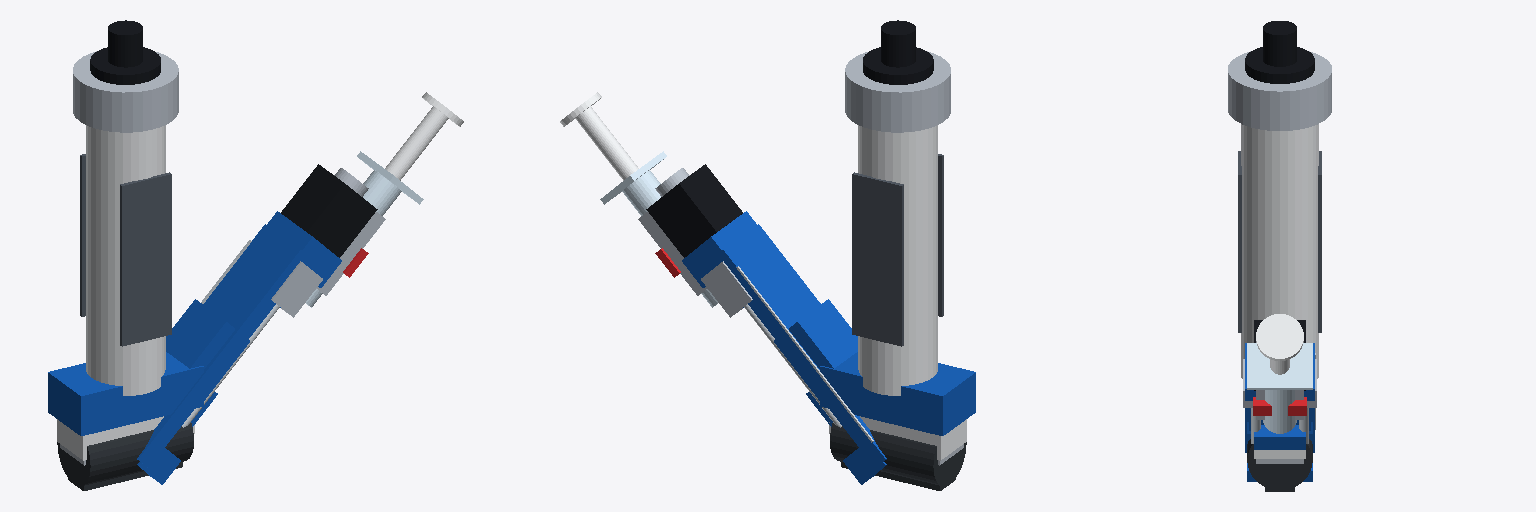
robot.urdf — robotic_probe_with_needle_guide:
<?xml version="1.0"?>
<robot name="robotic_probe_with_needle_guide">

  <!-- ==================================================================== -->
  <!-- MATERIALS DEFINITION                                                 -->
  <!-- ==================================================================== -->
  <material name="medical_white">
    <color rgba="0.94 0.95 0.96 1.0"/>
  </material>
  <material name="acoustic_lens_graphite">
    <color rgba="0.22 0.24 0.26 1.0"/>
  </material>
  <material name="silicone_grip_grey">
    <color rgba="0.35 0.38 0.42 1.0"/>
  </material>
  <material name="surgical_anodized_blue">
    <color rgba="0.12 0.42 0.78 1.0"/>
  </material>
  <material name="clamp_accent_red">
    <color rgba="0.88 0.20 0.22 1.0"/>
  </material>
  <material name="stepper_black">
    <color rgba="0.12 0.13 0.15 1.0"/>
  </material>
  <material name="polished_chrome_steel">
    <color rgba="0.82 0.85 0.88 1.0"/>
  </material>
  <material name="leadscrew_steel">
    <color rgba="0.70 0.73 0.76 1.0"/>
  </material>
  <material name="brass_bushing">
    <color rgba="0.85 0.72 0.35 1.0"/>
  </material>
  <material name="needle_cannula_18g">
    <color rgba="0.90 0.92 0.95 1.0"/>
  </material>
  <material name="depth_ring_black">
    <color rgba="0.08 0.08 0.10 1.0"/>
  </material>
  <material name="luer_hub_pink_18g">
    <color rgba="0.92 0.26 0.44 0.98"/>
  </material>
  <material name="syringe_barrel_glass">
    <color rgba="0.86 0.93 0.98 0.70"/>
  </material>
  <material name="syringe_plunger_white">
    <color rgba="0.95 0.96 0.97 1.0"/>
  </material>
  <material name="syringe_rubber_piston">
    <color rgba="0.16 0.18 0.20 1.0"/>
  </material>
  <material name="flange_aluminum">
    <color rgba="0.75 0.78 0.82 1.0"/>
  </material>

  <!-- ==================================================================== -->
  <!-- 1. BASE LINK: Robot Interface Flange & Curved Ultrasound Transducer   -->
  <!-- ==================================================================== -->
  <link name="probe_base_flange">
    <inertial>
      <mass value="0.55"/>
      <origin xyz="0 0 0" rpy="0 0 0"/>
      <inertia ixx="0.0015" iyy="0.0015" izz="0.0008"/>
    </inertial>

    <!-- Robot EE Interface Flange (connects directly to Franka Panda Link 8) -->
    <visual>
      <origin xyz="0 0 0.195" rpy="0 0 0"/>
      <geometry>
        <cylinder radius="0.024" length="0.020"/>
      </geometry>
      <material name="flange_aluminum"/>
    </visual>
    <!-- Flange index ring & alignment notch -->
    <visual>
      <origin xyz="0 0 0.206" rpy="0 0 0"/>
      <geometry>
        <cylinder radius="0.016" length="0.008"/>
      </geometry>
      <material name="stepper_black"/>
    </visual>
    <!-- Transducer cable strain-relief boot -->
    <visual>
      <origin xyz="0 0 0.218" rpy="0 0 0"/>
      <geometry>
        <cylinder radius="0.008" length="0.016"/>
      </geometry>
      <material name="stepper_black"/>
    </visual>

    <!-- Ergonomic Contoured Transducer Handle -->
    <visual>
      <origin xyz="0 0 0.118" rpy="0 0 0"/>
      <geometry>
        <cylinder radius="0.018" length="0.134"/>
      </geometry>
      <material name="medical_white"/>
    </visual>

    <!-- Side Silicone Ergonomic Grip Pads (Lateral Left/Right) -->
    <visual>
      <origin xyz="0 0.0182 0.118" rpy="0 0 0"/>
      <geometry>
        <box size="0.026 0.002 0.080"/>
      </geometry>
      <material name="silicone_grip_grey"/>
    </visual>
    <visual>
      <origin xyz="0 -0.0182 0.118" rpy="0 0 0"/>
      <geometry>
        <box size="0.026 0.002 0.080"/>
      </geometry>
      <material name="silicone_grip_grey"/>
    </visual>

    <!-- Transducer Lower Flare Housing -->
    <visual>
      <origin xyz="0 0 0.038" rpy="0 0 0"/>
      <geometry>
        <box size="0.058 0.024 0.032"/>
      </geometry>
      <material name="medical_white"/>
    </visual>
    <!-- Transducer Lower Metal Bezel Accent -->
    <visual>
      <origin xyz="0 0 0.022" rpy="0 0 0"/>
      <geometry>
        <box size="0.056 0.022 0.006"/>
      </geometry>
      <material name="flange_aluminum"/>
    </visual>

    <!-- Curved Acoustic Lens Array (Horizontal Cylinder along X-axis) -->
    <visual>
      <origin xyz="0 0 0.020" rpy="0 1.5707963 0"/>
      <geometry>
        <cylinder radius="0.015" length="0.054"/>
      </geometry>
      <material name="acoustic_lens_graphite"/>
    </visual>
    <!-- Planar Acoustic Contact Face Footprint at z=0.005 -->
    <visual>
      <origin xyz="0 0 0.006" rpy="0 0 0"/>
      <geometry>
        <box size="0.052 0.014 0.004"/>
      </geometry>
      <material name="acoustic_lens_graphite"/>
    </visual>

    <!-- Environment Contact Collisions -->
    <collision>
      <origin xyz="0 0 0.11" rpy="0 0 0"/>
      <geometry>
        <cylinder radius="0.020" length="0.16"/>
      </geometry>
    </collision>
    <collision>
      <origin xyz="0 0 0.012" rpy="0 0 0"/>
      <geometry>
        <box size="0.056 0.024 0.022"/>
      </geometry>
    </collision>
  </link>

  <!-- ==================================================================== -->
  <!-- 2. RIGID CHASSIS & STRUCTURAL BRACKET (AURA-CVC Mechatronic Clamp)   -->
  <!-- ==================================================================== -->
  <link name="needle_actuator_chassis">
    <inertial>
      <mass value="0.28"/>
      <origin xyz="0 0 0" rpy="0 0 0"/>
      <inertia ixx="0.0008" iyy="0.0008" izz="0.0004"/>
    </inertial>

    <!-- Heavy-duty CNC Aluminum Clamp Collar encircling the probe housing -->
    <visual>
      <origin xyz="0 0 0.046" rpy="0 0 0"/>
      <geometry>
        <box size="0.064 0.030 0.020"/>
      </geometry>
      <material name="surgical_anodized_blue"/>
    </visual>
    <!-- Clamp Hex Fastener Cap Screws -->
    <visual>
      <origin xyz="0.030 0.012 0.046" rpy="0 1.5707963 0"/>
      <geometry>
        <cylinder radius="0.0022" length="0.008"/>
      </geometry>
      <material name="polished_chrome_steel"/>
    </visual>
    <visual>
      <origin xyz="0.030 -0.012 0.046" rpy="0 1.5707963 0"/>
      <geometry>
        <cylinder radius="0.0022" length="0.008"/>
      </geometry>
      <material name="polished_chrome_steel"/>
    </visual>

    <!-- Structural Cantilever Gusset Arm connecting Clamp to 45-deg Rail Spine -->
    <visual>
      <origin xyz="0.038 0 0.056" rpy="0 0.785398 0"/>
      <geometry>
        <box size="0.018 0.028 0.036"/>
      </geometry>
      <material name="surgical_anodized_blue"/>
    </visual>
    <!-- Stiffening Strut -->
    <visual>
      <origin xyz="0.030 0 0.036" rpy="0 0.785398 0"/>
      <geometry>
        <box size="0.012 0.024 0.020"/>
      </geometry>
      <material name="surgical_anodized_blue"/>
    </visual>
  </link>

  <joint name="chassis_mount_joint" type="fixed">
    <parent link="probe_base_flange"/>
    <child link="needle_actuator_chassis"/>
    <origin xyz="0 0 0" rpy="0 0 0"/>
  </joint>

  <!-- ==================================================================== -->
  <!-- 3. 45-DEGREE LINEAR ACTUATOR BED & TWIN GUIDE RAILS                   -->
  <!-- ==================================================================== -->
  <link name="linear_actuator_bed">
    <inertial>
      <mass value="0.22"/>
      <origin xyz="0 0 0" rpy="0 0 0"/>
      <inertia ixx="0.0006" iyy="0.0006" izz="0.0002"/>
    </inertial>

    <!-- Structural Backbone Rail Bed (Length 130mm, Width 30mm) -->
    <!-- Local -Z is the forward insertion direction toward probe footprint -->
    <visual>
      <origin xyz="-0.008 0 0.0" rpy="0 0 0"/>
      <geometry>
        <box size="0.008 0.032 0.120"/>
      </geometry>
      <material name="surgical_anodized_blue"/>
    </visual>

    <!-- Top Rail Mounting Block & Motor Support Bracket -->
    <visual>
      <origin xyz="0 0 0.060" rpy="0 0 0"/>
      <geometry>
        <box size="0.022 0.032 0.016"/>
      </geometry>
      <material name="surgical_anodized_blue"/>
    </visual>

    <!-- Precision Miniature NEMA Stepper Motor Housing -->
    <visual>
      <origin xyz="0 0 0.082" rpy="0 0 0"/>
      <geometry>
        <box size="0.024 0.024 0.028"/>
      </geometry>
      <material name="stepper_black"/>
    </visual>
    <!-- Stepper Motor Rear Encoder Cap -->
    <visual>
      <origin xyz="0 0 0.098" rpy="0 0 0"/>
      <geometry>
        <cylinder radius="0.008" length="0.006"/>
      </geometry>
      <material name="flange_aluminum"/>
    </visual>

    <!-- Dual Ground-Steel Precision Linear Guide Shafts (Left & Right) -->
    <visual>
      <origin xyz="0 0.011 0.0" rpy="0 0 0"/>
      <geometry>
        <cylinder radius="0.0022" length="0.120"/>
      </geometry>
      <material name="polished_chrome_steel"/>
    </visual>
    <visual>
      <origin xyz="0 -0.011 0.0" rpy="0 0 0"/>
      <geometry>
        <cylinder radius="0.0022" length="0.120"/>
      </geometry>
      <material name="polished_chrome_steel"/>
    </visual>

    <!-- Centered High-Precision Lead Screw (M4 Threaded Drive Shaft) -->
    <visual>
      <origin xyz="0 0 0.0" rpy="0 0 0"/>
      <geometry>
        <cylinder radius="0.0020" length="0.116"/>
      </geometry>
      <material name="leadscrew_steel"/>
    </visual>

    <!-- Bottom Guide Bushing Block (terminates at z=-0.055, safely above skin) -->
    <visual>
      <origin xyz="0 0 -0.055" rpy="0 0 0"/>
      <geometry>
        <box size="0.018 0.030 0.014"/>
      </geometry>
      <material name="surgical_anodized_blue"/>
    </visual>
    <!-- Precision Low-Friction Brass Bushing Sleeve Guide for 18G Needle -->
    <visual>
      <origin xyz="0 0 -0.062" rpy="0 0 0"/>
      <geometry>
        <cylinder radius="0.0032" length="0.014"/>
      </geometry>
      <material name="brass_bushing"/>
    </visual>

    <!-- Laser-Etched Insertion Depth Scale on Side Plate -->
    <visual>
      <origin xyz="-0.0125 0.0162 0.0" rpy="0 0 0"/>
      <geometry>
        <box size="0.001 0.001 0.100"/>
      </geometry>
      <material name="polished_chrome_steel"/>
    </visual>
  </link>

  <!-- Fixed Joint placing the Linear Actuator Bed at exactly 45 deg, pointing to footprint -->
  <!-- Located at x=0.048, z=0.052, rpy=[0, 0.785398, 0] -->
  <joint name="rail_bed_joint" type="fixed">
    <parent link="needle_actuator_chassis"/>
    <child link="linear_actuator_bed"/>
    <origin xyz="0.048 0 0.052" rpy="0 0.785398 0"/>
  </joint>

  <!-- ==================================================================== -->
  <!-- 4. ACTIVE MOTORIZED NEEDLE CARRIAGE & SYRINGE CADDY                  -->
  <!-- ==================================================================== -->
  <link name="needle_carriage_slider">
    <inertial>
      <mass value="0.08"/>
      <origin xyz="0 0 0" rpy="0 0 0"/>
      <inertia ixx="0.0002" iyy="0.0002" izz="0.0001"/>
    </inertial>

    <!-- Main Carriage Body (glides along dual rails via linear bushings) -->
    <visual>
      <origin xyz="0 0 0" rpy="0 0 0"/>
      <geometry>
        <box size="0.016 0.034 0.022"/>
      </geometry>
      <material name="flange_aluminum"/>
    </visual>

    <!-- Left & Right Recirculating Ball Bushing Blocks -->
    <visual>
      <origin xyz="0 0.011 0" rpy="0 0 0"/>
      <geometry>
        <cylinder radius="0.0038" length="0.022"/>
      </geometry>
      <material name="surgical_anodized_blue"/>
    </visual>
    <visual>
      <origin xyz="0 -0.011 0" rpy="0 0 0"/>
      <geometry>
        <cylinder radius="0.0038" length="0.022"/>
      </geometry>
      <material name="surgical_anodized_blue"/>
    </visual>

    <!-- Centered Lead Screw Brass Anti-Backlash Drive Nut -->
    <visual>
      <origin xyz="0 0 0" rpy="0 0 0"/>
      <geometry>
        <cylinder radius="0.0035" length="0.012"/>
      </geometry>
      <material name="brass_bushing"/>
    </visual>

    <!-- Form-Fitted Syringe Barrel Saddle Cradle -->
    <visual>
      <origin xyz="0.014 0 0.028" rpy="0 0 0"/>
      <geometry>
        <box size="0.012 0.022 0.044"/>
      </geometry>
      <material name="flange_aluminum"/>
    </visual>
    <!-- Quick-Release Syringe Locking Band (Anodized Red Clamp Latch) -->
    <visual>
      <origin xyz="0.021 0 0.026" rpy="0 0 0"/>
      <geometry>
        <box size="0.004 0.025 0.014"/>
      </geometry>
      <material name="clamp_accent_red"/>
    </visual>

    <!-- 10 mL Medical Aspiration Syringe Barrel (Mounted securely in cradle) -->
    <visual>
      <origin xyz="0.016 0 0.032" rpy="0 0 0"/>
      <geometry>
        <cylinder radius="0.0080" length="0.068"/>
      </geometry>
      <material name="syringe_barrel_glass"/>
    </visual>
    <!-- Syringe Barrel Flange Finger-Grip -->
    <visual>
      <origin xyz="0.016 0 0.066" rpy="0 0 0"/>
      <geometry>
        <box size="0.022 0.030 0.003"/>
      </geometry>
      <material name="syringe_barrel_glass"/>
    </visual>

    <!-- Syringe Plunger Shaft -->
    <visual>
      <origin xyz="0.016 0 0.086" rpy="0 0 0"/>
      <geometry>
        <cylinder radius="0.0045" length="0.038"/>
      </geometry>
      <material name="syringe_plunger_white"/>
    </visual>
    <!-- Syringe Plunger Thumb Press Flange -->
    <visual>
      <origin xyz="0.016 0 0.105" rpy="0 0 0"/>
      <geometry>
        <cylinder radius="0.011" length="0.003"/>
      </geometry>
      <material name="syringe_plunger_white"/>
    </visual>
    <!-- Syringe Internal Black Rubber Piston -->
    <visual>
      <origin xyz="0.016 0 0.050" rpy="0 0 0"/>
      <geometry>
        <cylinder radius="0.0076" length="0.008"/>
      </geometry>
      <material name="syringe_rubber_piston"/>
    </visual>

    <!-- Clinical Luer-Lock Needle Hub (18G Pink ISO Standard) clamped at carriage nose -->
    <visual>
      <origin xyz="0 0 -0.016" rpy="0 0 0"/>
      <geometry>
        <cylinder radius="0.0035" length="0.012"/>
      </geometry>
      <material name="luer_hub_pink_18g"/>
    </visual>
    <!-- Luer Lock Collar -->
    <visual>
      <origin xyz="0 0 -0.011" rpy="0 0 0"/>
      <geometry>
        <box size="0.010 0.010 0.004"/>
      </geometry>
      <material name="luer_hub_pink_18g"/>
    </visual>

    <!-- 18G Surgical Stainless Steel Cannula -->
    <!-- Extends along -Z from Luer hub (-0.016) through lower guide bushing to tip (-0.115) -->
    <visual>
      <origin xyz="0 0 -0.065" rpy="0 0 0"/>
      <geometry>
        <cylinder radius="0.0011" length="0.100"/>
      </geometry>
      <material name="needle_cannula_18g"/>
    </visual>

    <!-- Precision Lancet Beveled Needle Tip at distal end (z = -0.115) -->
    <visual>
      <origin xyz="0.0003 0 -0.115" rpy="0 0.35 0"/>
      <geometry>
        <cylinder radius="0.0010" length="0.004"/>
      </geometry>
      <material name="polished_chrome_steel"/>
    </visual>

    <!-- Echogenic Laser-Etched Depth Graduation Bands -->
    <visual>
      <origin xyz="0 0 -0.105" rpy="0 0 0"/>
      <geometry>
        <cylinder radius="0.00115" length="0.0012"/>
      </geometry>
      <material name="depth_ring_black"/>
    </visual>
    <visual>
      <origin xyz="0 0 -0.095" rpy="0 0 0"/>
      <geometry>
        <cylinder radius="0.00115" length="0.0012"/>
      </geometry>
      <material name="depth_ring_black"/>
    </visual>
    <visual>
      <origin xyz="0 0 -0.085" rpy="0 0 0"/>
      <geometry>
        <cylinder radius="0.00115" length="0.0012"/>
      </geometry>
      <material name="depth_ring_black"/>
    </visual>
    <visual>
      <origin xyz="0 0 -0.075" rpy="0 0 0"/>
      <geometry>
        <cylinder radius="0.00115" length="0.0012"/>
      </geometry>
      <material name="depth_ring_black"/>
    </visual>
    <visual>
      <origin xyz="0 0 -0.065" rpy="0 0 0"/>
      <geometry>
        <cylinder radius="0.00115" length="0.0012"/>
      </geometry>
      <material name="depth_ring_black"/>
    </visual>
    <visual>
      <origin xyz="0 0 -0.055" rpy="0 0 0"/>
      <geometry>
        <cylinder radius="0.00115" length="0.0012"/>
      </geometry>
      <material name="depth_ring_black"/>
    </visual>

    <!-- Cannula Collision for Tissue & Bone Boundary Interaction -->
    <collision>
      <origin xyz="0 0 -0.065" rpy="0 0 0"/>
      <geometry>
        <cylinder radius="0.0012" length="0.100"/>
      </geometry>
    </collision>
  </link>

  <!-- ==================================================================== -->
  <!-- 5. 1-DoF PRISMATIC NEEDLE INSERTION JOINT                             -->
  <!-- ==================================================================== -->
  <joint name="needle_insertion_prismatic_joint" type="prismatic">
    <parent link="linear_actuator_bed"/>
    <child link="needle_carriage_slider"/>
    <!-- Parked origin at z=+0.045: needle tip rests right inside lower guide bushing -->
    <origin xyz="0 0 0.045" rpy="0 0 0"/>
    <!-- Insertion pushes carriage along -Z axis directly toward ultrasound scanning plane -->
    <axis xyz="0 0 -1"/>
    <!-- Insertion Stroke: 0.0 to 0.100 m (10.0 cm clinical insertion depth) -->
    <limit lower="0.0" upper="0.100" effort="30.0" velocity="0.05"/>
    <dynamics damping="1.0" friction="0.2"/>
  </joint>

</robot>

--- What the picture shows (computed from the rendered views, not written in the file) ---
The picture shows the robot from 3 angles, left to right: view 1: azimuth 30°, elevation 25°; view 2: azimuth 150°, elevation 25°; view 3: azimuth 270°, elevation 25°; orthographic projection.
Robot: robotic_probe_with_needle_guide — 4 links, 3 joints (1 prismatic, 2 fixed); root link probe_base_flange; default pose: every joint at zero.
Links seen in each view (by area): view 1: probe_base_flange, linear_actuator_bed, needle_actuator_chassis, needle_carriage_slider; view 2: probe_base_flange, linear_actuator_bed, needle_actuator_chassis, needle_carriage_slider; view 3: probe_base_flange, needle_carriage_slider, linear_actuator_bed, needle_actuator_chassis.
Boxes of the visible links, x1,y1,x2,y2 form: probe_base_flange: (57,20,194,490); linear_actuator_bed: (137,164,377,484); needle_actuator_chassis: (48,299,249,435); needle_carriage_slider: (271,92,463,317); probe_base_flange: (829,20,966,490); linear_actuator_bed: (646,164,886,484); needle_actuator_chassis: (774,299,975,435); needle_carriage_slider: (560,92,752,317); probe_base_flange: (1228,21,1331,491); needle_carriage_slider: (1243,314,1316,433); linear_actuator_bed: (1245,320,1315,481); needle_actuator_chassis: (1247,408,1312,449).
Bounding box of the posed robot: 0.2062 × 0.048 × 0.2255 m (x, y, z).
Geometry: primitives only (box / cylinder / sphere), no mesh files.
